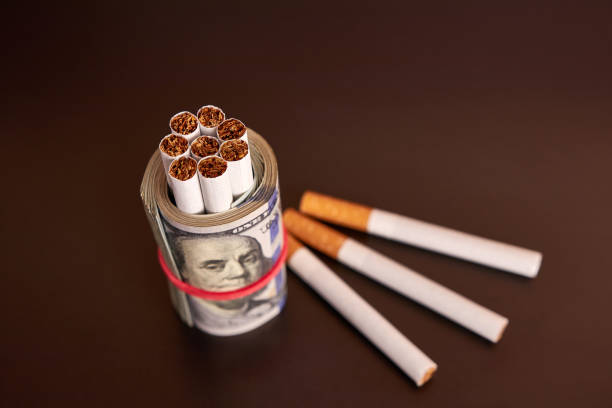cigarette: (283, 205, 511, 344), (285, 231, 439, 388), (297, 190, 544, 279), (169, 157, 205, 212), (198, 157, 233, 213), (221, 139, 253, 195), (159, 133, 191, 183), (168, 110, 201, 144), (198, 104, 225, 135), (189, 135, 221, 161), (217, 117, 249, 142)
